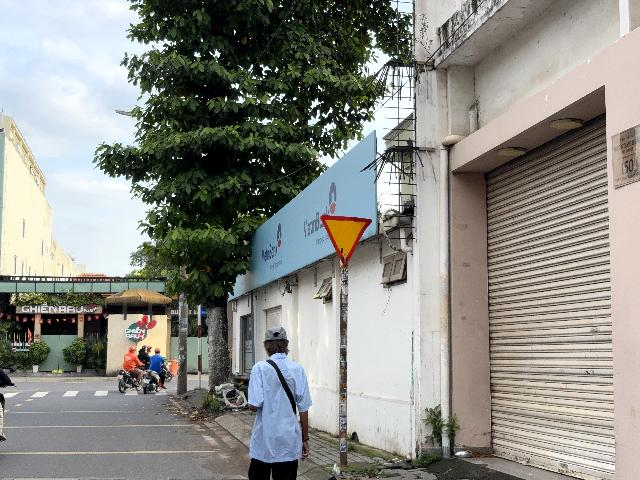giao-nhau-voi-duong-uu-tien: (319, 215, 372, 266)
